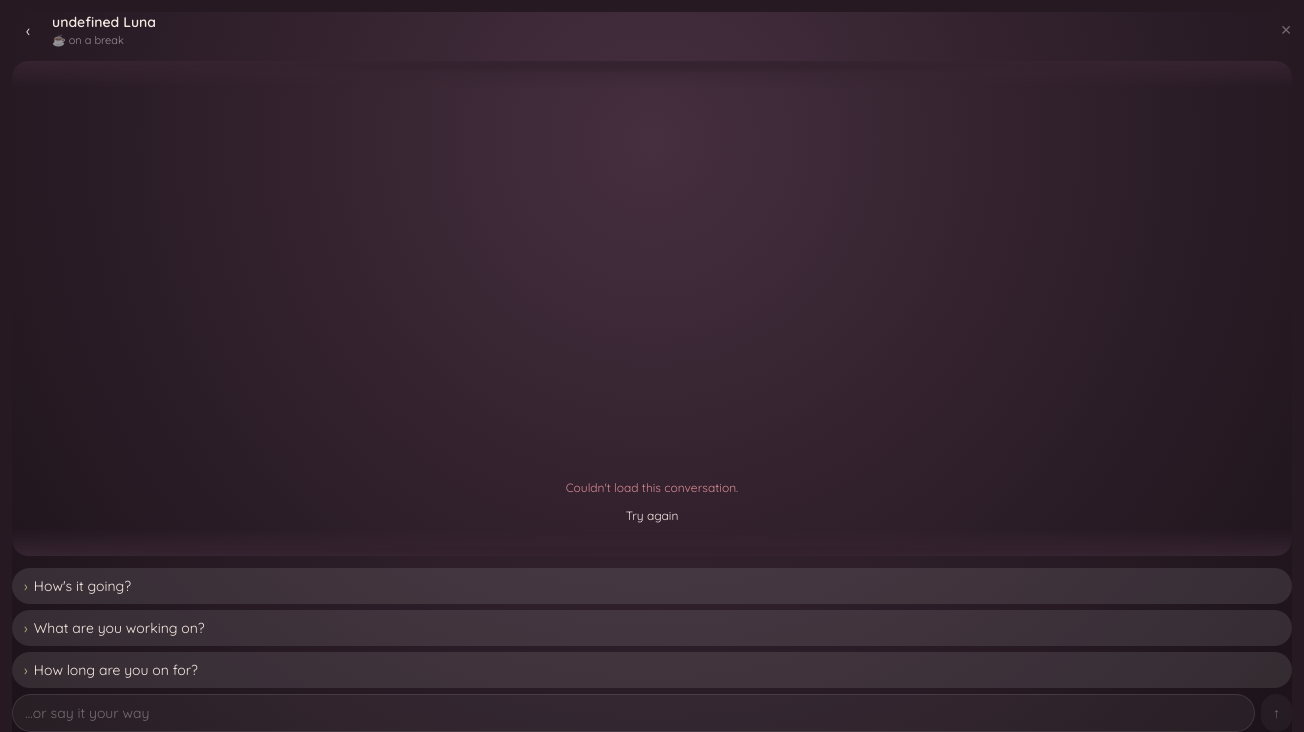
Test case: chat delivery and recovery › shows a retry instead of pretending a failed load is an empty chat
The image size is (1304, 732).
Expected: the message "Couldn't load this conversation. Try again" is shown, [566, 480, 738, 528]
What coordinates should you click on to do the following:
click the button "Try again"
I would click on:
 (652, 516)
Its box is [614, 504, 690, 528].
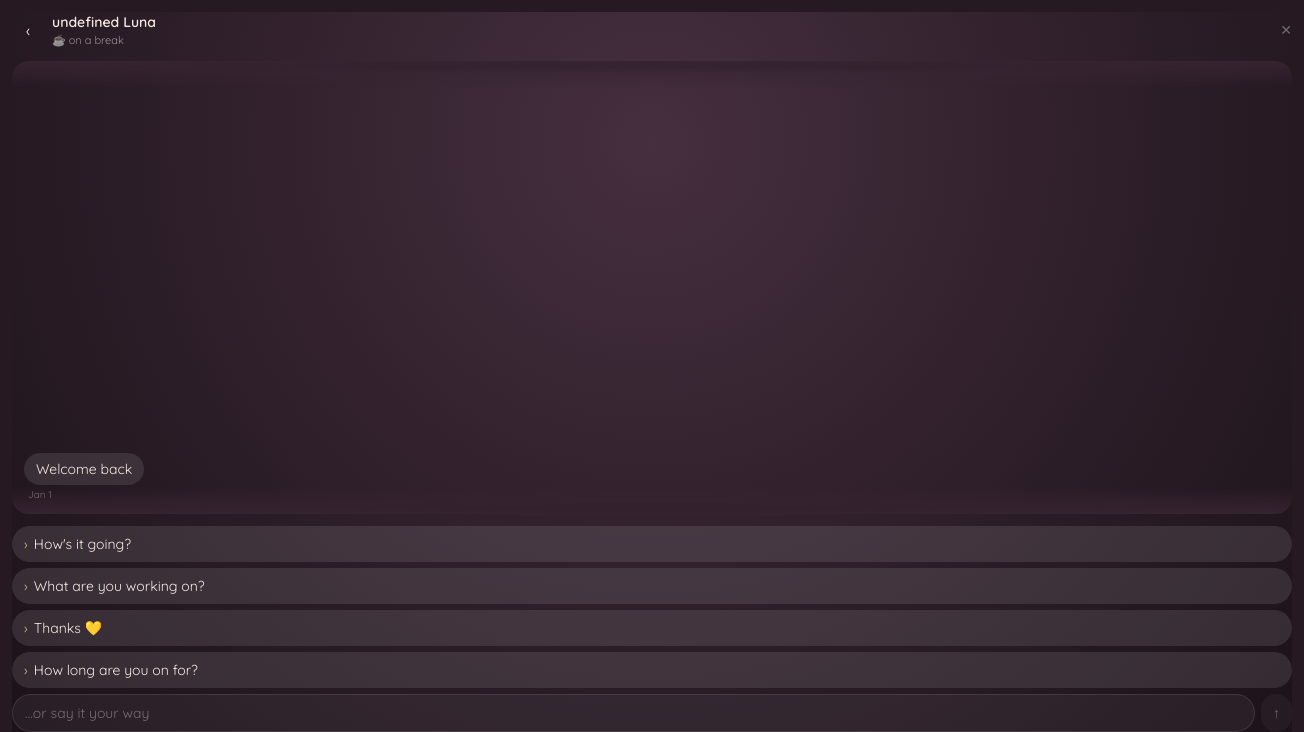
Now the text "Welcome back" is shown, box [24, 453, 144, 485]
